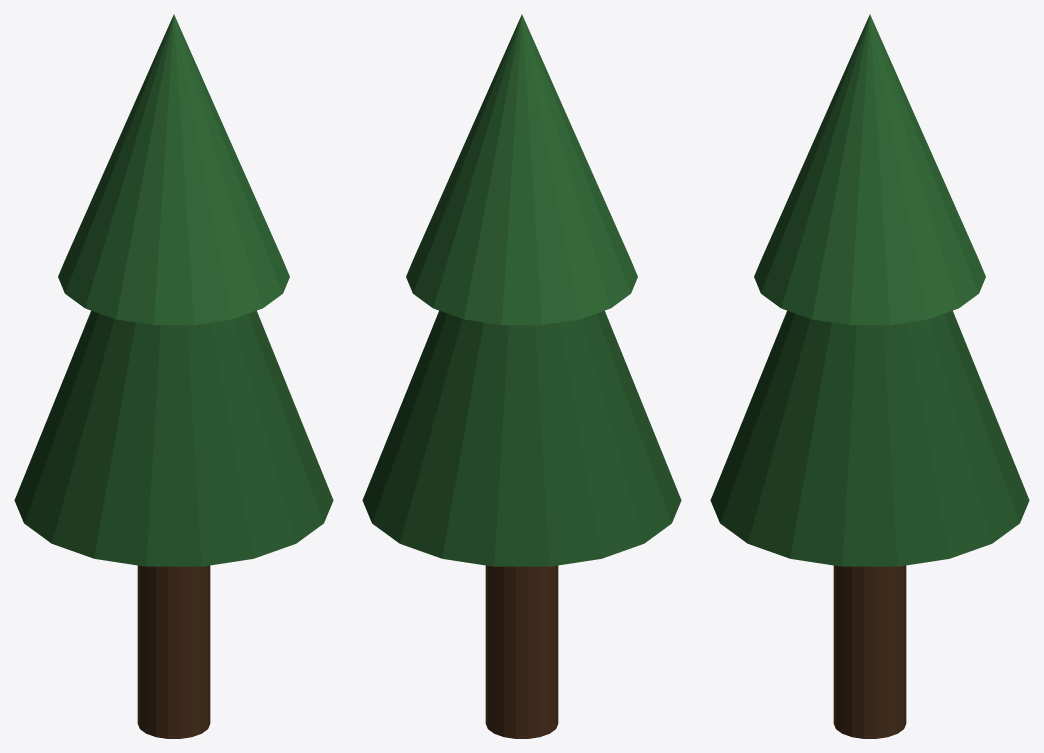
Rendered from tree.a685b5e2.glb.
3 views of the same model, side by side, from view 1: azimuth 30°, elevation 25°; view 2: azimuth 150°, elevation 25°; view 3: azimuth 270°, elevation 25° (orthographic).
Visible parts, largest first — view 1: body; view 2: body; view 3: body.
Part boxes in pixels (bbox=[...]): body: bbox=[14, 14, 333, 738]; body: bbox=[362, 14, 681, 738]; body: bbox=[710, 14, 1029, 738].
Size of the model in its own units: 1.08 by 2.7 by 1.1.
